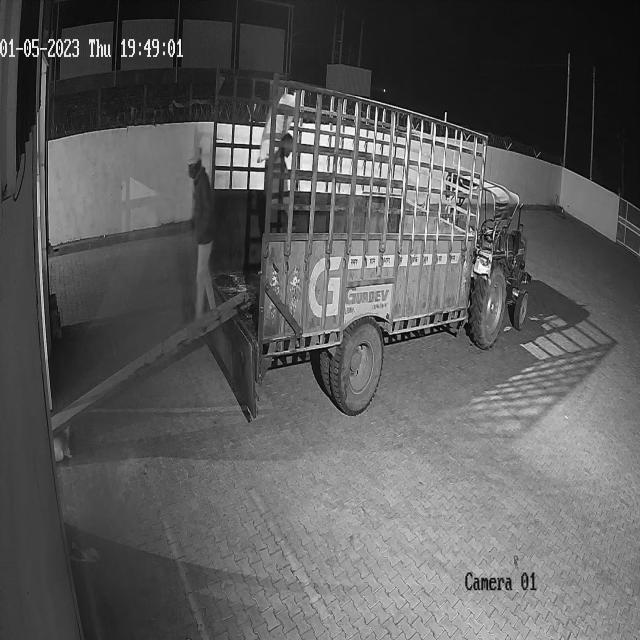sack: (258, 96, 297, 162)
